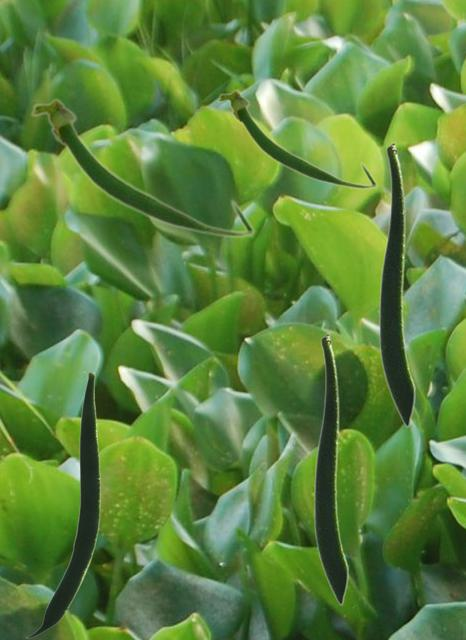french_bean: (29, 96, 255, 238), (25, 371, 99, 637), (216, 88, 377, 189), (378, 141, 415, 427), (313, 332, 348, 605)
